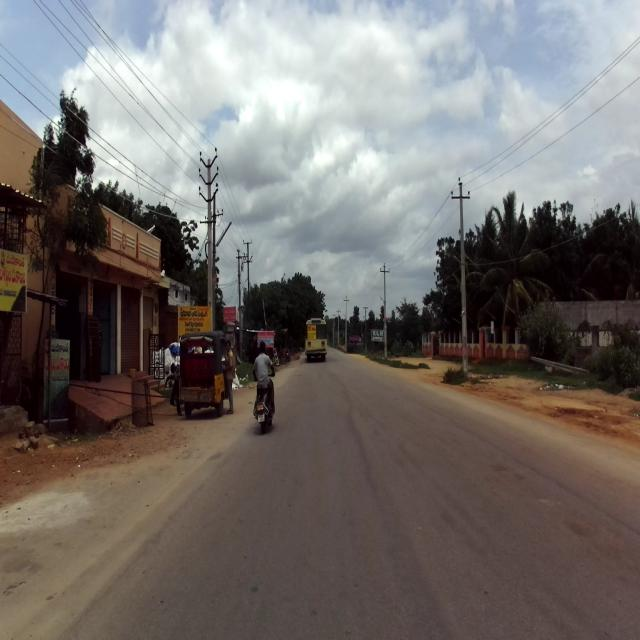autorickshaw: (177, 328, 228, 416)
bus: (304, 316, 327, 362)
scooter: (253, 375, 276, 429)
